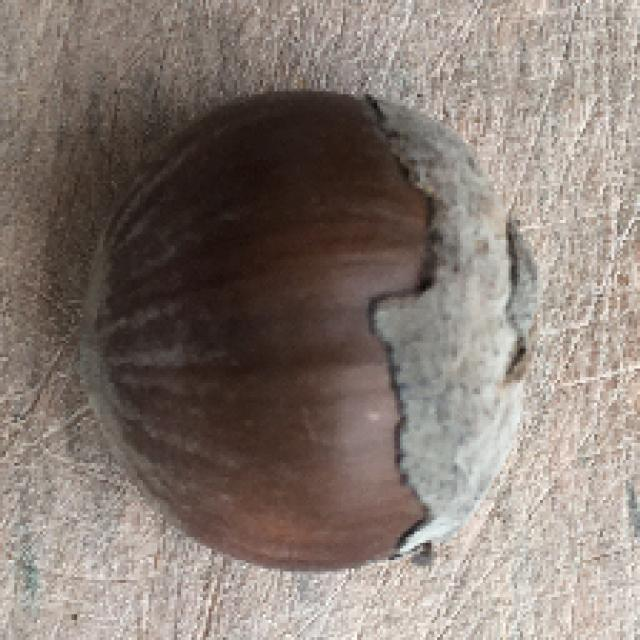DamagedHazelnut: (75, 97, 533, 573)
